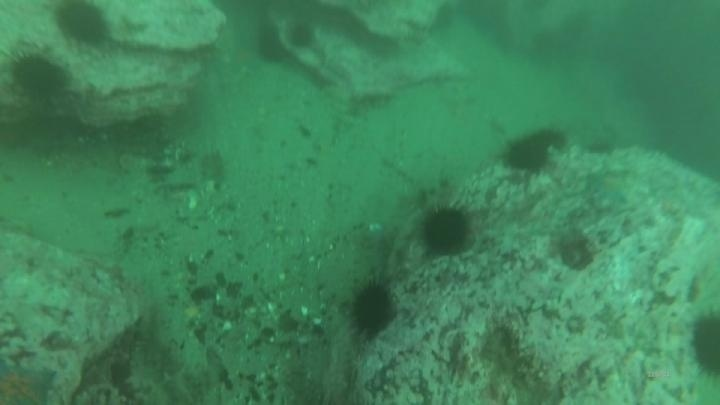echinus: (7, 48, 71, 103), (417, 203, 474, 259), (347, 277, 398, 339), (52, 2, 112, 49), (687, 308, 720, 381), (501, 134, 552, 175), (253, 24, 288, 66), (525, 125, 570, 156), (286, 21, 318, 51)
starfish: (0, 359, 60, 405), (587, 170, 633, 208)
